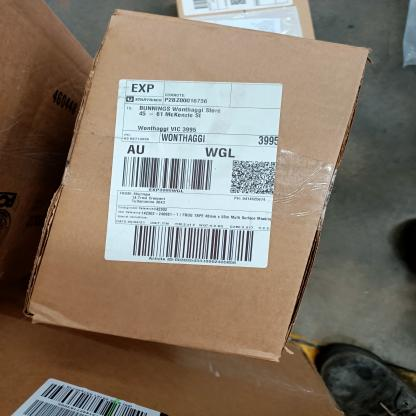label: (108, 79, 286, 275), (10, 379, 168, 416)
package: (21, 7, 370, 362), (0, 279, 344, 416), (0, 1, 94, 292), (176, 0, 318, 37)
